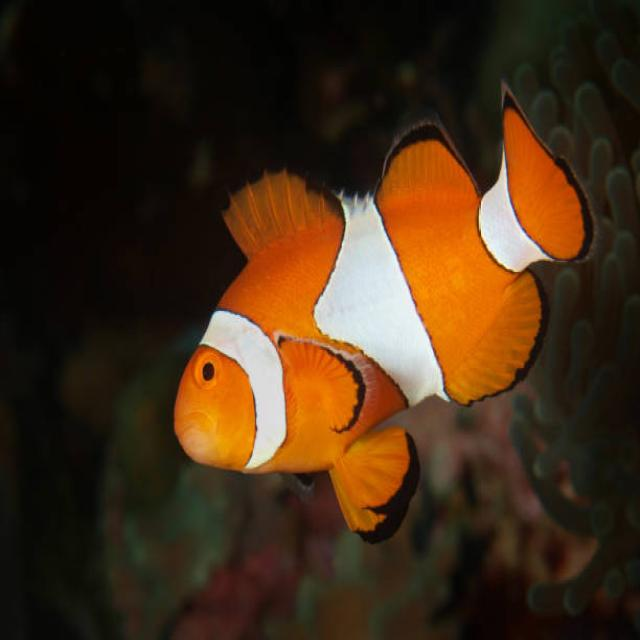ClownFish: (172, 84, 595, 530)
